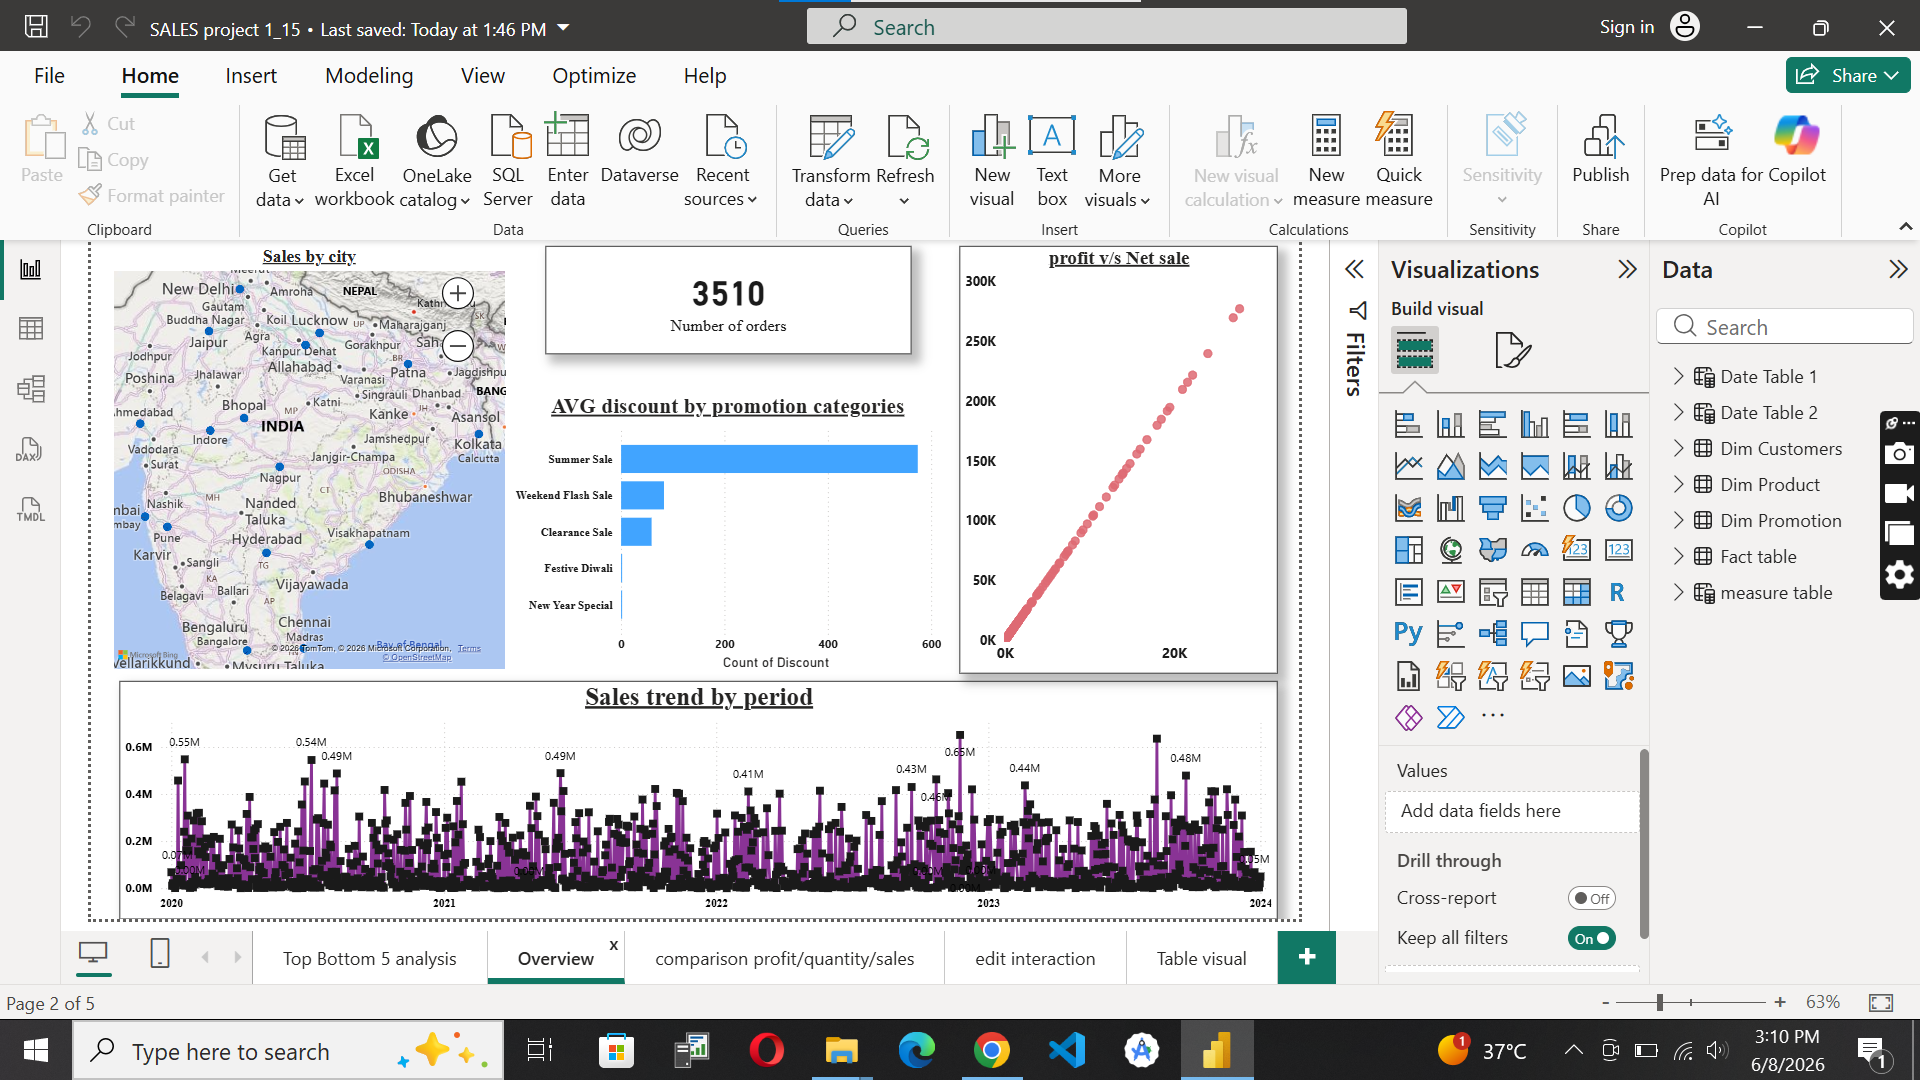

Layout of this report page (visuals, bound fields, positions):
{"tool":"powerbi","page":{"name":"Overview","canvas":[1280,720],"ordinal":1},"visuals":[{"type":"lineChart","title":"Sales trend by period","fields":{"Y":["Sum(Fact table.Net sale)"],"Category":["Fact table.Date (dd/mm/yyyy).Variation.Date Hierarchy.Year"]},"box":[30.2,467.6,1228,252.9],"z":0},{"type":"scatterChart","title":"profit v/s Net sale","fields":{"X":["Fact table.profit"],"Y":["Fact table.Net sale"]},"box":[921,6.4,337.2,453.3],"z":1000},{"type":"barChart","title":"AVG discount by promotion categories","fields":{"Y":["CountNonNull(Fact table.Discount)"],"Category":["Dim Promotion.Promotion Name"]},"box":[443.8,163.8,462.9,295.9],"z":2000},{"type":"map","title":"Sales by city","fields":{"Category":["Dim Customers.City"],"Series":["Fact table.Net sale"]},"box":[19.1,6.4,424.7,453.3],"z":3000},{"type":"card","fields":{"Values":["Count(Fact table.Order ID)"]},"box":[482,6.4,388.1,114.5],"z":4000}]}

Visuals, with their boxes on the page's 1280x720 design canvas (x1, y1, x2, y2). These are canvas units, not pixel positions in the 1920x1080 screenshot, which may show the page scaled, cropped or inside an application window:
"Sales trend by period" lineChart: {"left": 30, "top": 468, "right": 1258, "bottom": 720}
"profit v/s Net sale" scatterChart: {"left": 921, "top": 6, "right": 1258, "bottom": 460}
"AVG discount by promotion categories" barChart: {"left": 444, "top": 164, "right": 907, "bottom": 460}
"Sales by city" map: {"left": 19, "top": 6, "right": 444, "bottom": 460}
card - Count(Fact table.Order ID): {"left": 482, "top": 6, "right": 870, "bottom": 121}
